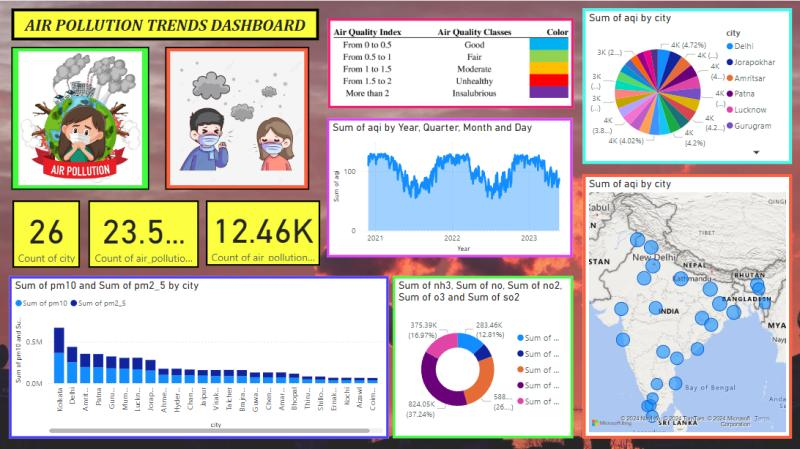

What the dashboard file says about the page in this screenshot:
{"tool":"powerbi","page":{"name":"Page 1","canvas":[1280,720],"ordinal":0},"visuals":[{"type":"textbox","box":[20,12.9,491.4,51.4],"z":0},{"type":"pieChart","fields":{"Y":["Sum(air_pollution_data.aqi)"],"Category":["air_pollution_data.city"]},"box":[931.4,12.9,334.3,248.6],"z":1000},{"type":"image","box":[20,74.3,220,228.6],"z":2000},{"type":"card","fields":{"Values":["Count(air_pollution_data.city)"]},"box":[20.7,319.7,108.2,108.2],"z":3000},{"type":"card","fields":{"Values":["Count(air_pollution_data)"]},"box":[141.6,319.7,176.6,108.2],"z":4000},{"type":"card","fields":{"Values":["Count(air_pollution_data)"]},"box":[329.3,319.7,182.9,105],"z":5000},{"type":"map","fields":{"Category":["air_pollution_data.city"],"Size":["Sum(air_pollution_data.aqi)"]},"box":[932.1,276.8,334,423.1],"z":6000},{"type":"donutChart","fields":{"Y":["Sum(air_pollution_data.nh3)","Sum(air_pollution_data.no)","Sum(air_pollution_data.no2)","Sum(air_pollution_data.o3)","Sum(air_pollution_data.so2)"]},"box":[628.3,440.6,287.9,259.3],"z":7000},{"type":"columnChart","fields":{"Y":["Sum(air_pollution_data.pm10)","Sum(air_pollution_data.pm2_5)"],"Category":["air_pollution_data.city"]},"box":[15.7,440,605.7,260],"z":8000},{"type":"image","box":[524.3,28.6,392.9,144.3],"z":9000},{"type":"stackedAreaChart","fields":{"Y":["Sum(air_pollution_data.aqi)"],"Category":["air_pollution_data.date.Variation.Date Hierarchy.Year","air_pollution_data.date.Variation.Date Hierarchy.Quarter","air_pollution_data.date.Variation.Date Hierarchy.Month","air_pollution_data.date.Variation.Date Hierarchy.Day"]},"box":[522.9,188.6,392.9,222.9],"z":10000},{"type":"image","box":[265.7,74.3,230,228.6],"z":11000}]}

Visuals, with their boxes in screenshot pixels (x1, y1, x2, y2), scaled from the page's 1280x720 canvas onto the 800x449 screenshot:
textbox: bbox=(12, 8, 320, 40)
pieChart - Sum(air_pollution_data.aqi) x air_pollution_data.city: bbox=(582, 8, 791, 163)
image: bbox=(12, 46, 150, 189)
card - Count(air_pollution_data.city): bbox=(13, 199, 81, 267)
card - Count(air_pollution_data): bbox=(88, 199, 199, 267)
card - Count(air_pollution_data): bbox=(206, 199, 320, 265)
map - air_pollution_data.city x Sum(air_pollution_data.aqi): bbox=(583, 173, 791, 436)
donutChart - Sum(air_pollution_data.nh3) x Sum(air_pollution_data.no): bbox=(393, 275, 573, 436)
columnChart - Sum(air_pollution_data.pm10) x Sum(air_pollution_data.pm2_5): bbox=(10, 274, 388, 437)
image: bbox=(328, 18, 573, 108)
stackedAreaChart - Sum(air_pollution_data.aqi) x air_pollution_data.date.Variation.Date Hierarchy.Year: bbox=(327, 118, 572, 257)
image: bbox=(166, 46, 310, 189)
